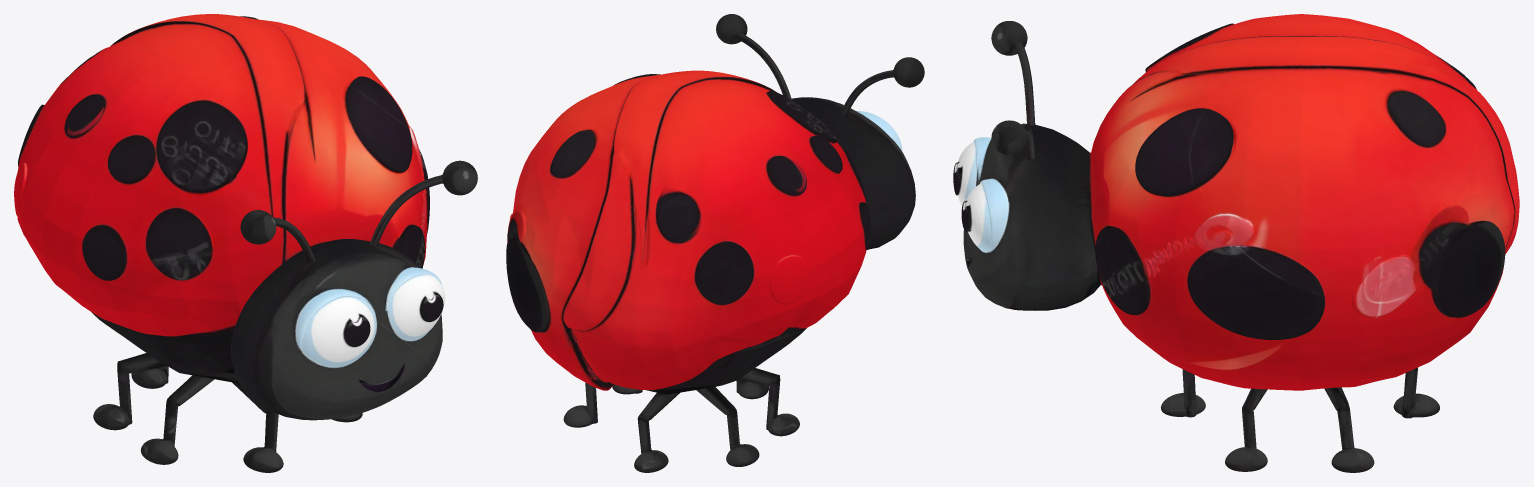
The model's file is Coccinella.glb.
3 views of the same model, side by side, from view 1: azimuth 30°, elevation 25°; view 2: azimuth 150°, elevation 25°; view 3: azimuth 270°, elevation 25° (orthographic). The views are drawn at different scales.
Bounding box in the file's own units: 1.4 × 1.44 × 1.9.
1 material, 1 textured.
